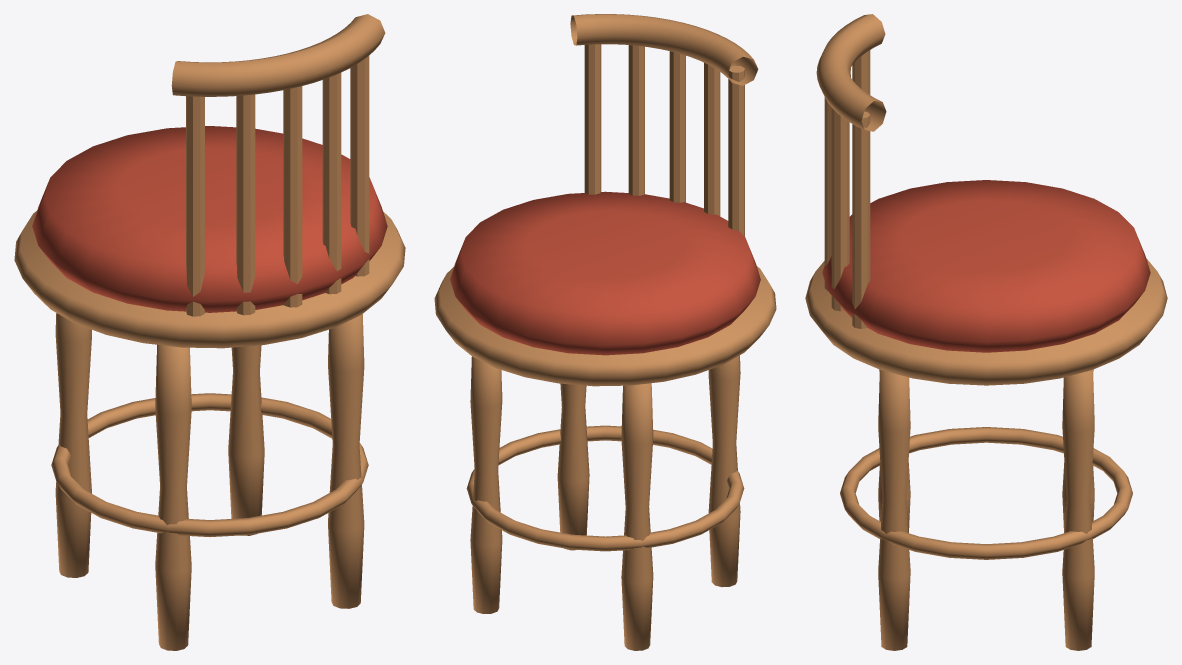
The model's file is chair.glb.
3 views of the same model, side by side, from view 1: azimuth 30°, elevation 25°; view 2: azimuth 150°, elevation 25°; view 3: azimuth 270°, elevation 25° (orthographic). The views are drawn at different scales.
Parts seen in each view (by area): view 1: Chair; view 2: Chair; view 3: Chair.
Part boxes in pixels (left/top/right/bottom): Chair: left=14, top=14, right=405, bottom=650; Chair: left=434, top=14, right=776, bottom=650; Chair: left=805, top=14, right=1167, bottom=650.
Bounding box in the file's own units: 0.64 × 1.07 × 0.64.
